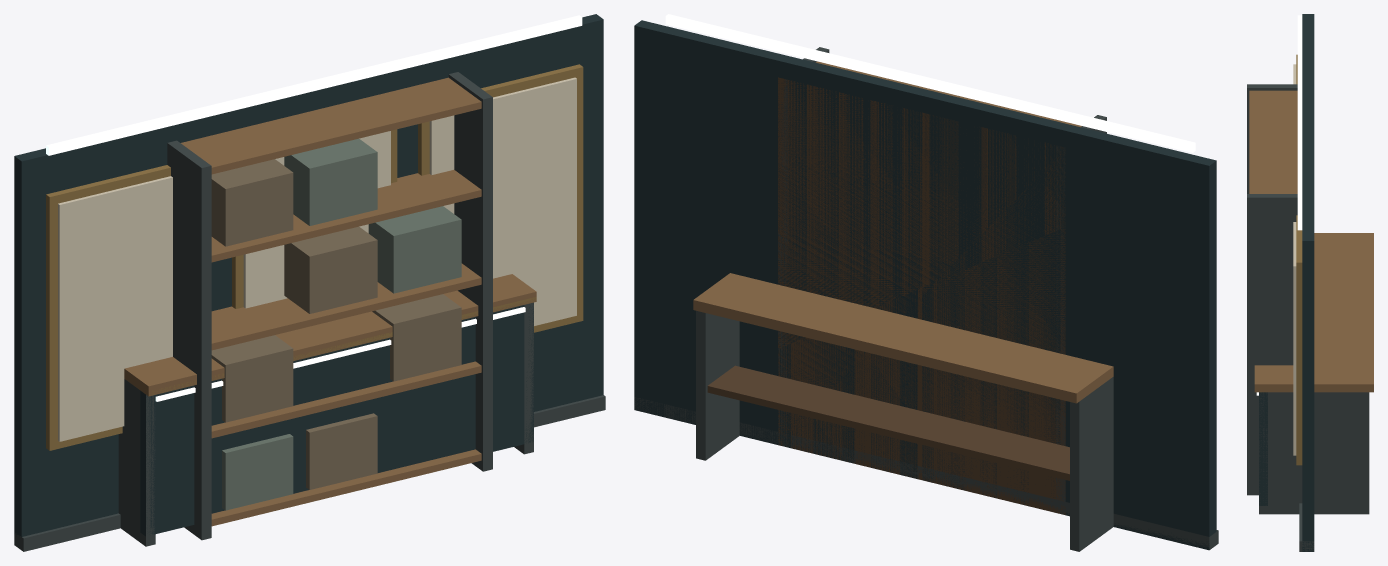
The model's file is hq-reception-pack.glb.
The picture shows the model from 3 angles, left to right: view 1: azimuth 30°, elevation 25°; view 2: azimuth 150°, elevation 25°; view 3: azimuth 270°, elevation 25°; orthographic projection. The views are drawn at different scales.
Parts seen in each view (by area): view 1: Manifesto_Backboard, Desk_Front_Fascia, Manifesto_Plaque_Paper_West, Manifesto_Plaque_Paper_East, Archive_Upright_West, Archive_Shelf_Board_4, Archive_Upright_East, Desk_Top, Archive_Box_2_1, Manifesto_Header_Seam, Archive_Box_2_2, Archive_Box_3_1 (+18 smaller); view 2: Manifesto_Backboard, Archive_Back_Panel, Desk_Top, Desk_Back_Shelf, Desk_Leg_West, Manifesto_Header_Seam, Manifesto_Base_Trim, Desk_Leg_East, Archive_Upright_West, Archive_Upright_East; view 3: Desk_Leg_East, Desk_Top, Archive_Upright_East, Manifesto_Backboard, Archive_Shelf_Board_4, Manifesto_Plaque_Frame_East, Manifesto_Header_Seam, Desk_Front_Fascia, Manifesto_Plaque_Paper_East, Archive_Upright_West, Manifesto_Base_Trim.
Boxes of the visible parts, <box> form: Manifesto_Backboard: <box>14,14,603,536</box>; Desk_Front_Fascia: <box>140,303,533,536</box>; Manifesto_Plaque_Paper_West: <box>58,176,172,441</box>; Manifesto_Plaque_Paper_East: <box>429,77,576,325</box>; Archive_Upright_West: <box>167,140,211,540</box>; Archive_Shelf_Board_4: <box>181,77,481,174</box>; Archive_Upright_East: <box>448,72,492,471</box>; Desk_Top: <box>124,274,536,396</box>; Archive_Box_2_1: <box>284,226,377,313</box>; Manifesto_Header_Seam: <box>46,15,582,155</box>; Archive_Box_2_2: <box>368,206,461,293</box>; Archive_Box_3_1: <box>284,138,377,225</box>; Manifesto_Backboard: <box>634,20,1216,550</box>; Archive_Back_Panel: <box>778,77,1065,514</box>; Desk_Top: <box>693,273,1113,403</box>; Desk_Back_Shelf: <box>707,365,1069,480</box>; Desk_Leg_West: <box>1070,377,1113,551</box>; Manifesto_Header_Seam: <box>665,14,1195,152</box>; Manifesto_Base_Trim: <box>634,397,1218,549</box>; Desk_Leg_East: <box>696,310,739,460</box>; Archive_Upright_West: <box>1056,115,1106,514</box>; Archive_Upright_East: <box>778,47,829,446</box>; Desk_Leg_East: <box>1259,392,1369,514</box>; Desk_Top: <box>1254,233,1373,392</box>; Archive_Upright_East: <box>1247,194,1297,495</box>; Manifesto_Backboard: <box>1302,14,1314,551</box>; Archive_Shelf_Board_4: <box>1249,90,1297,193</box>; Manifesto_Plaque_Frame_East: <box>1296,215,1302,465</box>; Manifesto_Header_Seam: <box>1297,15,1302,230</box>; Desk_Front_Fascia: <box>1259,392,1267,505</box>; Manifesto_Plaque_Paper_East: <box>1293,222,1296,455</box>; Archive_Upright_West: <box>1247,84,1297,193</box>; Manifesto_Base_Trim: <box>1299,503,1314,551</box>.
Size of the model in its own units: 3.6 by 2.36 by 0.85.
